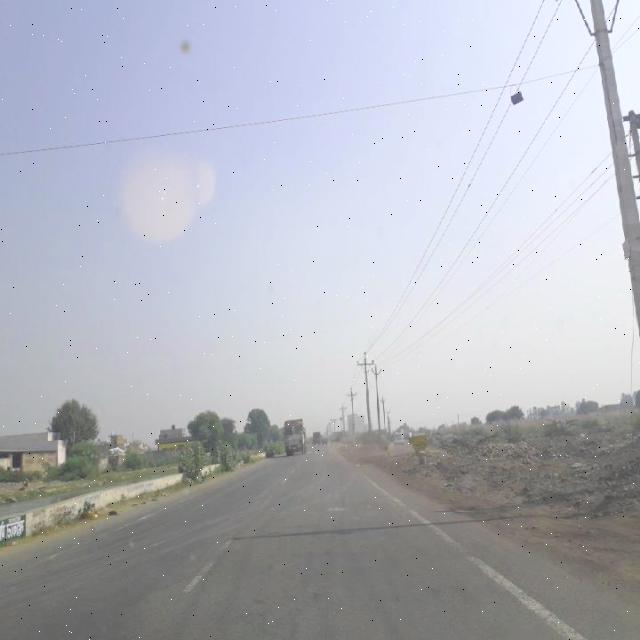D44: (180, 534, 234, 593)
